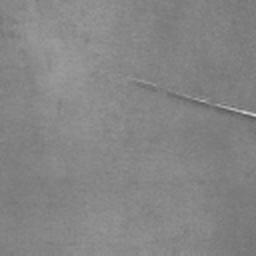Finishing roll printing: (168, 88, 255, 119), (129, 77, 157, 92)
